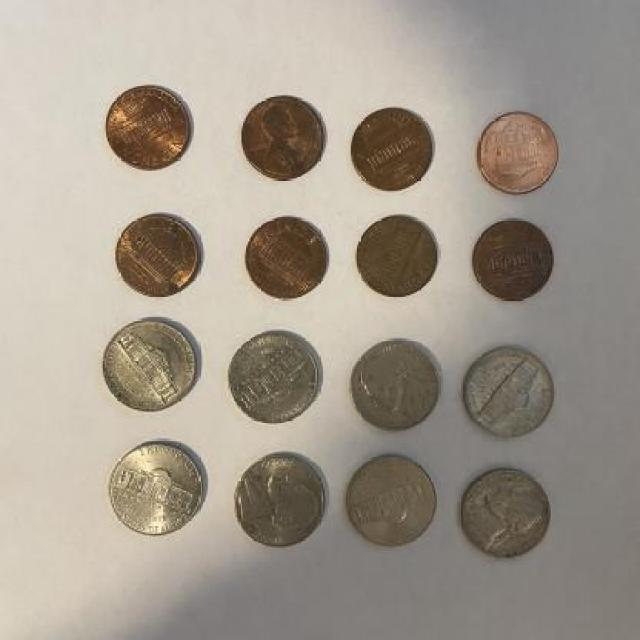Nickel: (104, 435, 208, 540), (344, 446, 440, 556), (232, 448, 328, 556), (228, 323, 324, 428), (96, 314, 198, 412), (460, 340, 556, 442), (350, 330, 444, 432), (458, 463, 552, 565)
Penny: (242, 204, 336, 304), (109, 206, 205, 302), (106, 81, 197, 176), (242, 90, 328, 186), (470, 210, 556, 304), (351, 104, 437, 198), (474, 106, 560, 199), (354, 211, 440, 300)
